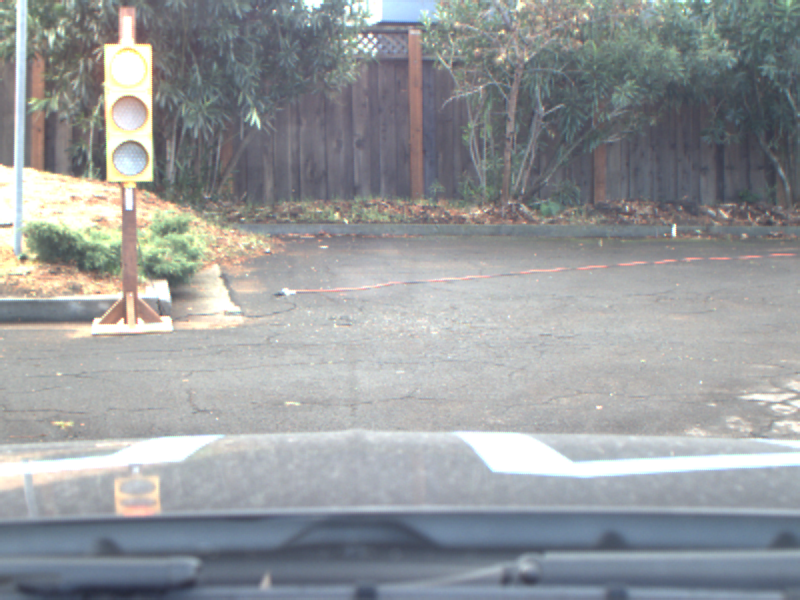Red: (104, 42, 155, 182)
